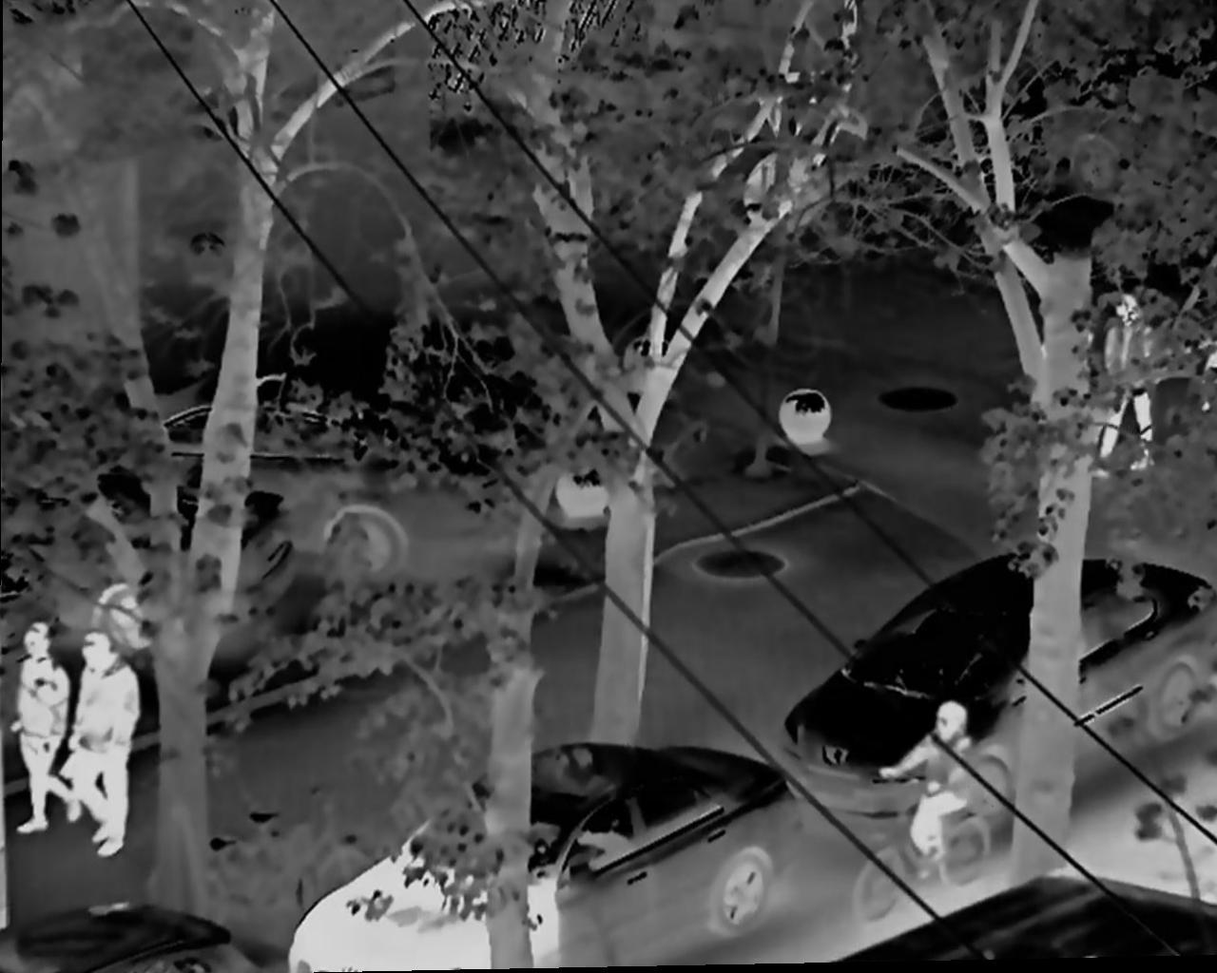person: (876, 698, 993, 869), (68, 635, 142, 867), (7, 622, 81, 843), (1097, 286, 1167, 477)
